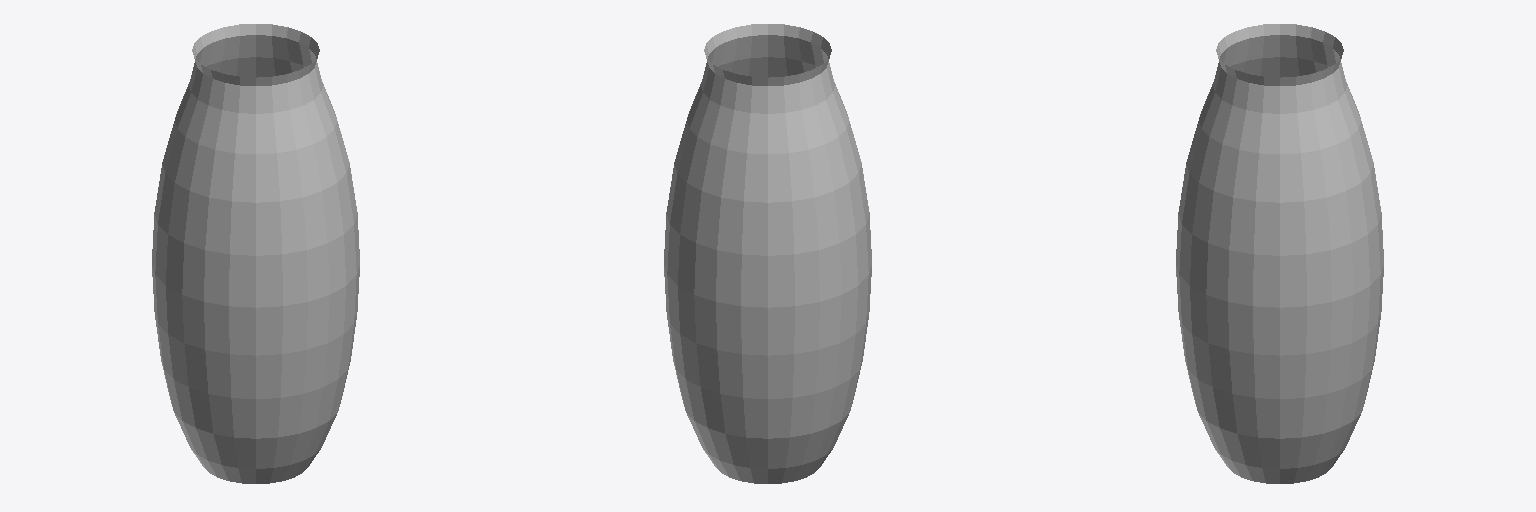
File: vase.obj
The picture shows the model from 3 angles: view 1: azimuth 30°, elevation 25°; view 2: azimuth 150°, elevation 25°; view 3: azimuth 270°, elevation 25°; orthographic projection.
Visible parts, largest first — view 1: Vase_Cube; view 2: Vase_Cube; view 3: Vase_Cube.
Boxes of the visible parts, x1,y1,x2,y2 form: Vase_Cube: [152, 24, 359, 483]; Vase_Cube: [664, 24, 871, 483]; Vase_Cube: [1176, 24, 1383, 483].
Bounding box in the file's own units: 4 × 8.69 × 4.